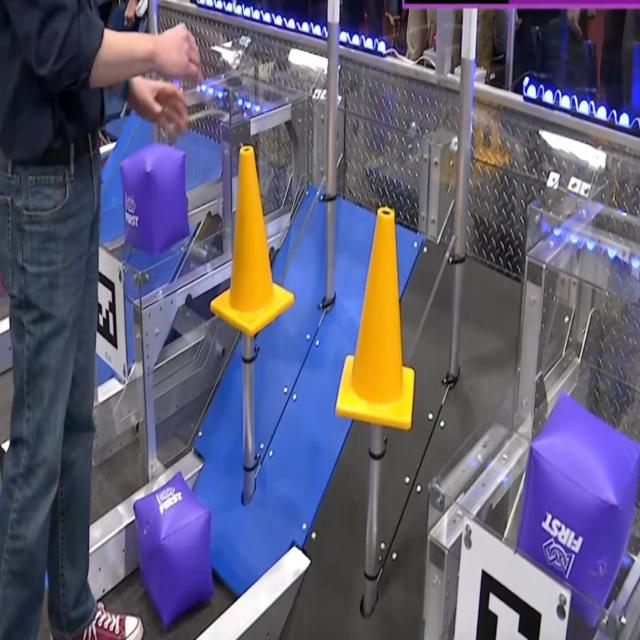frc_cone: (335, 204, 416, 431), (209, 143, 297, 336)
frc_cube: (517, 392, 640, 628), (131, 476, 213, 626), (120, 143, 191, 253)
